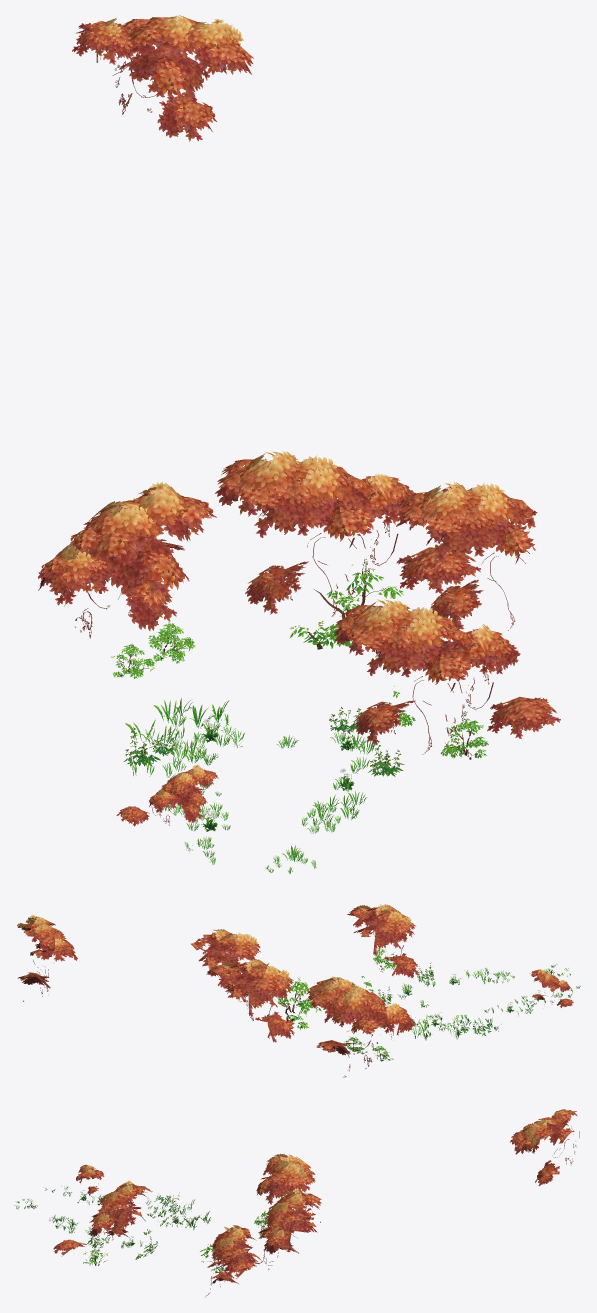
The model's file is boss5_zhibei_1.fbx.
The picture shows the model from 3 angles, top to bottom: view 1: azimuth 30°, elevation 25°; view 2: azimuth 150°, elevation 25°; view 3: azimuth 270°, elevation 25°; orthographic projection. The views are drawn at different scales.
Parts seen in each view (by area): view 1: boss5_zhibei_1; view 2: boss5_zhibei_1; view 3: boss5_zhibei_1.
Part boxes in pixels (x1=…): boss5_zhibei_1: x1=38, y1=15, x2=560, y2=873; boss5_zhibei_1: x1=17, y1=904, x2=580, y2=1077; boss5_zhibei_1: x1=14, y1=1109, x2=579, y2=1296.
Bounding box in the file's own units: 5007 × 3194 × 8679.
